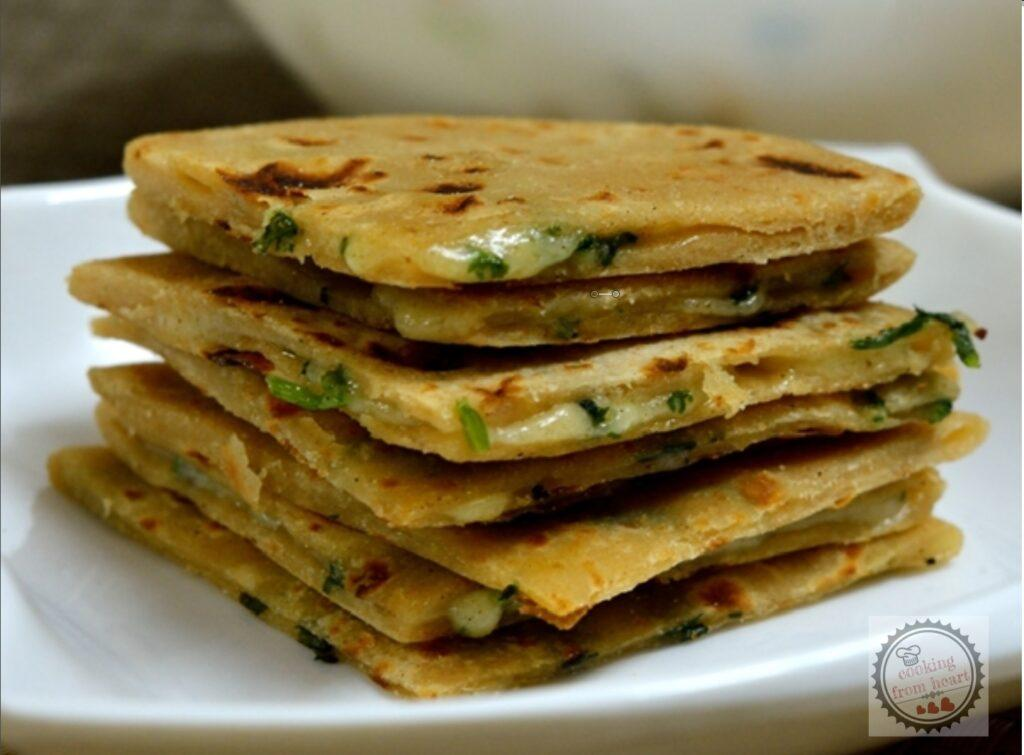paratha: (77, 111, 972, 683)
